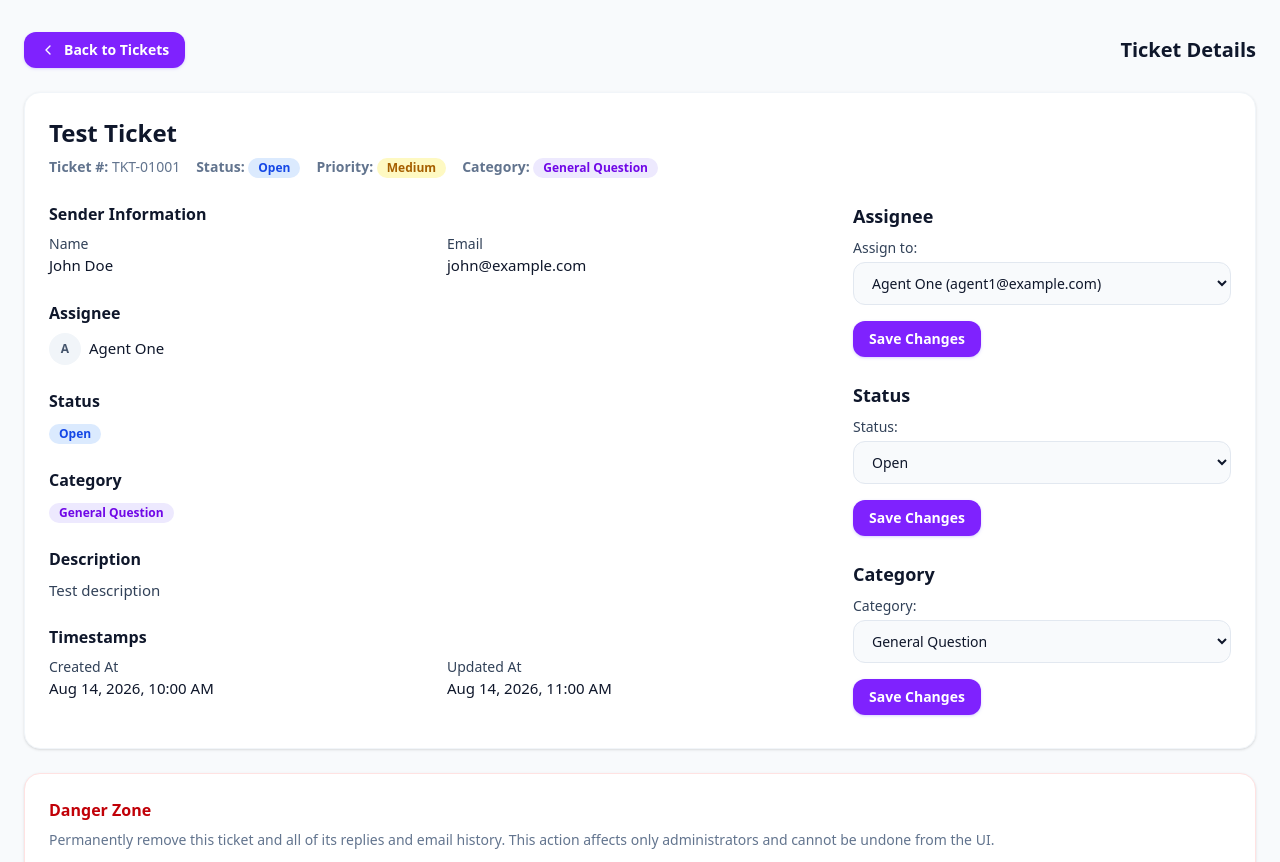
it: TicketDetailsPage › allows admin to change ticket status
Check: the heading "Test Ticket" is shown, box [49,116,177,149]
# Select status from dropdown
Select "In Progress" in the dropdown with test id "status-select". click: (1042, 462)
box: [853,441,1231,484]
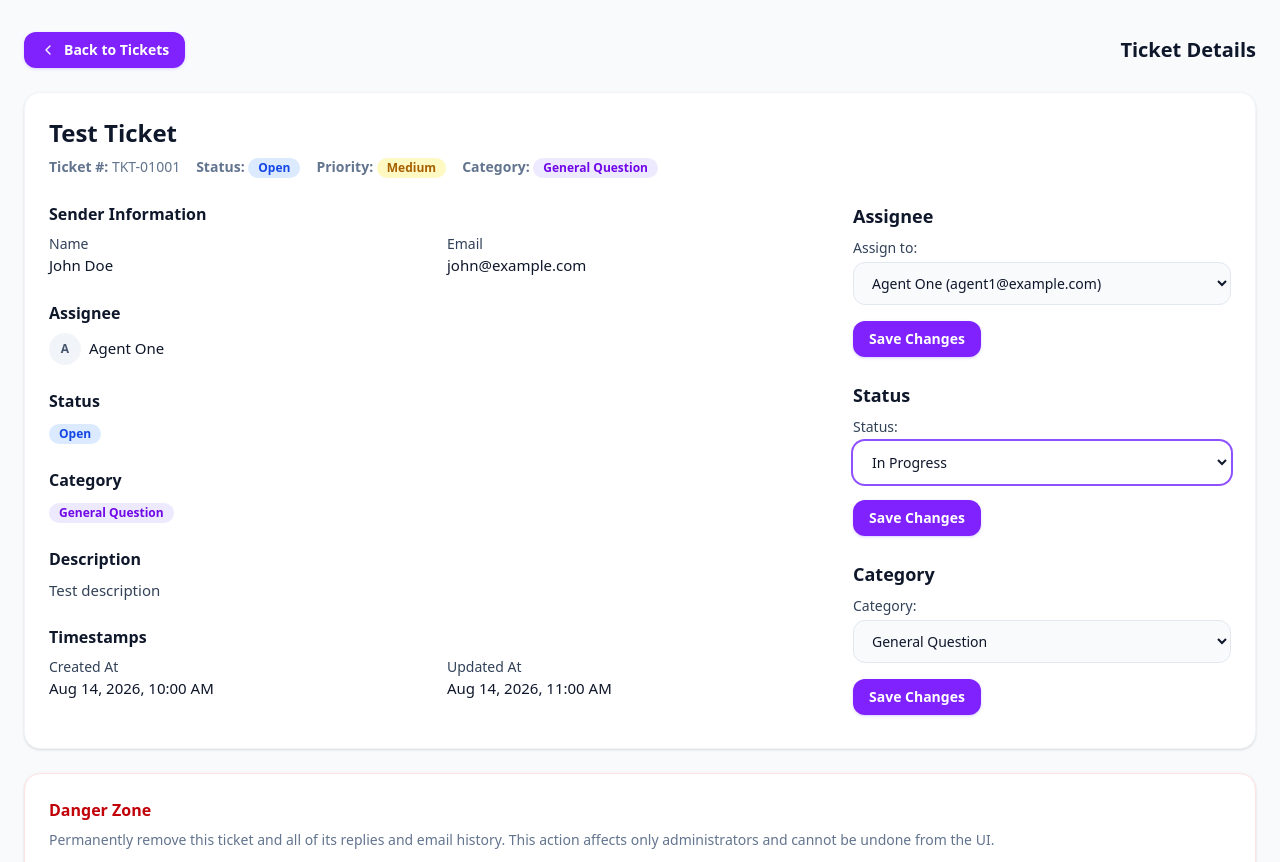
# Click save changes button
Click the 2nd button "Save Changes". click: (917, 518)
box: [853,500,981,536]
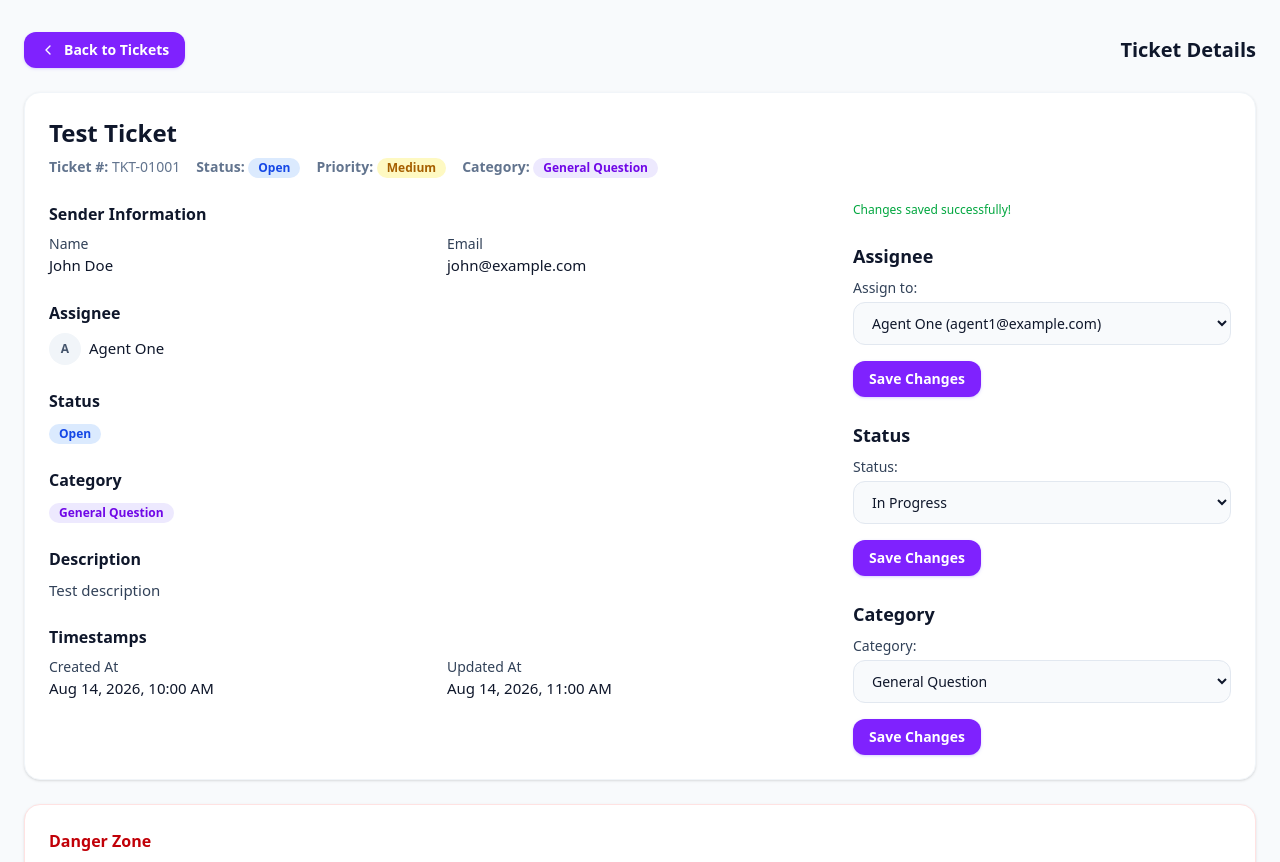
Check: the text "Changes saved successfully!" is shown, box [853,201,1011,218]
